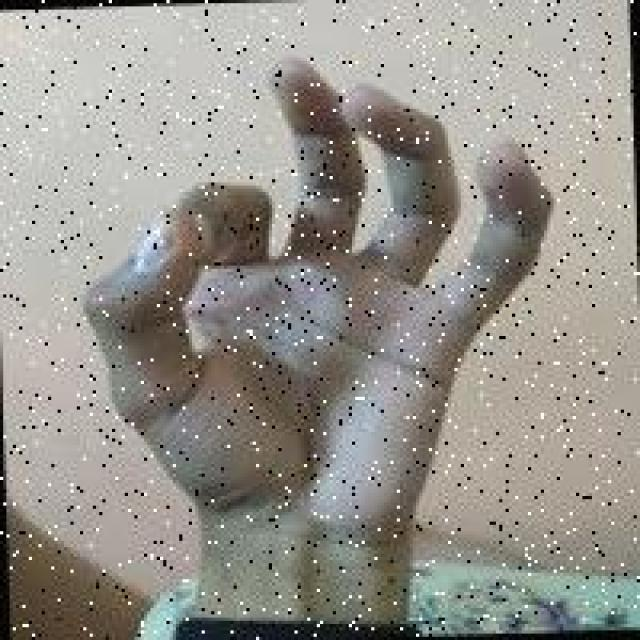F: (68, 39, 582, 554)
